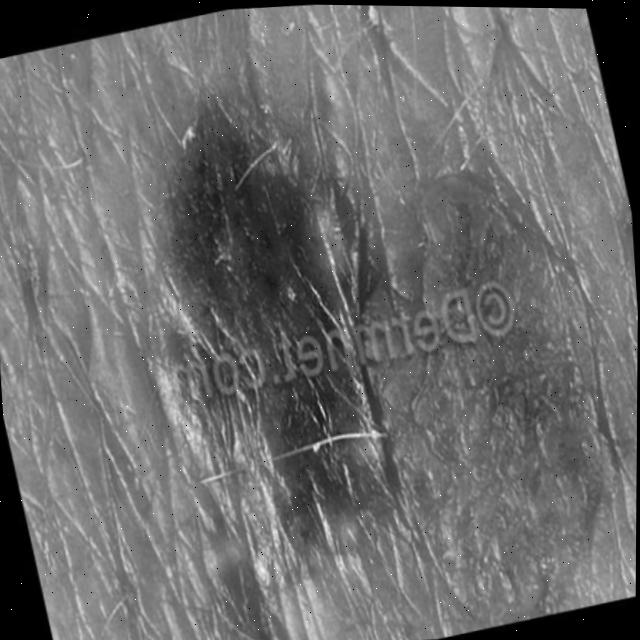Eczema: (102, 60, 640, 640)
